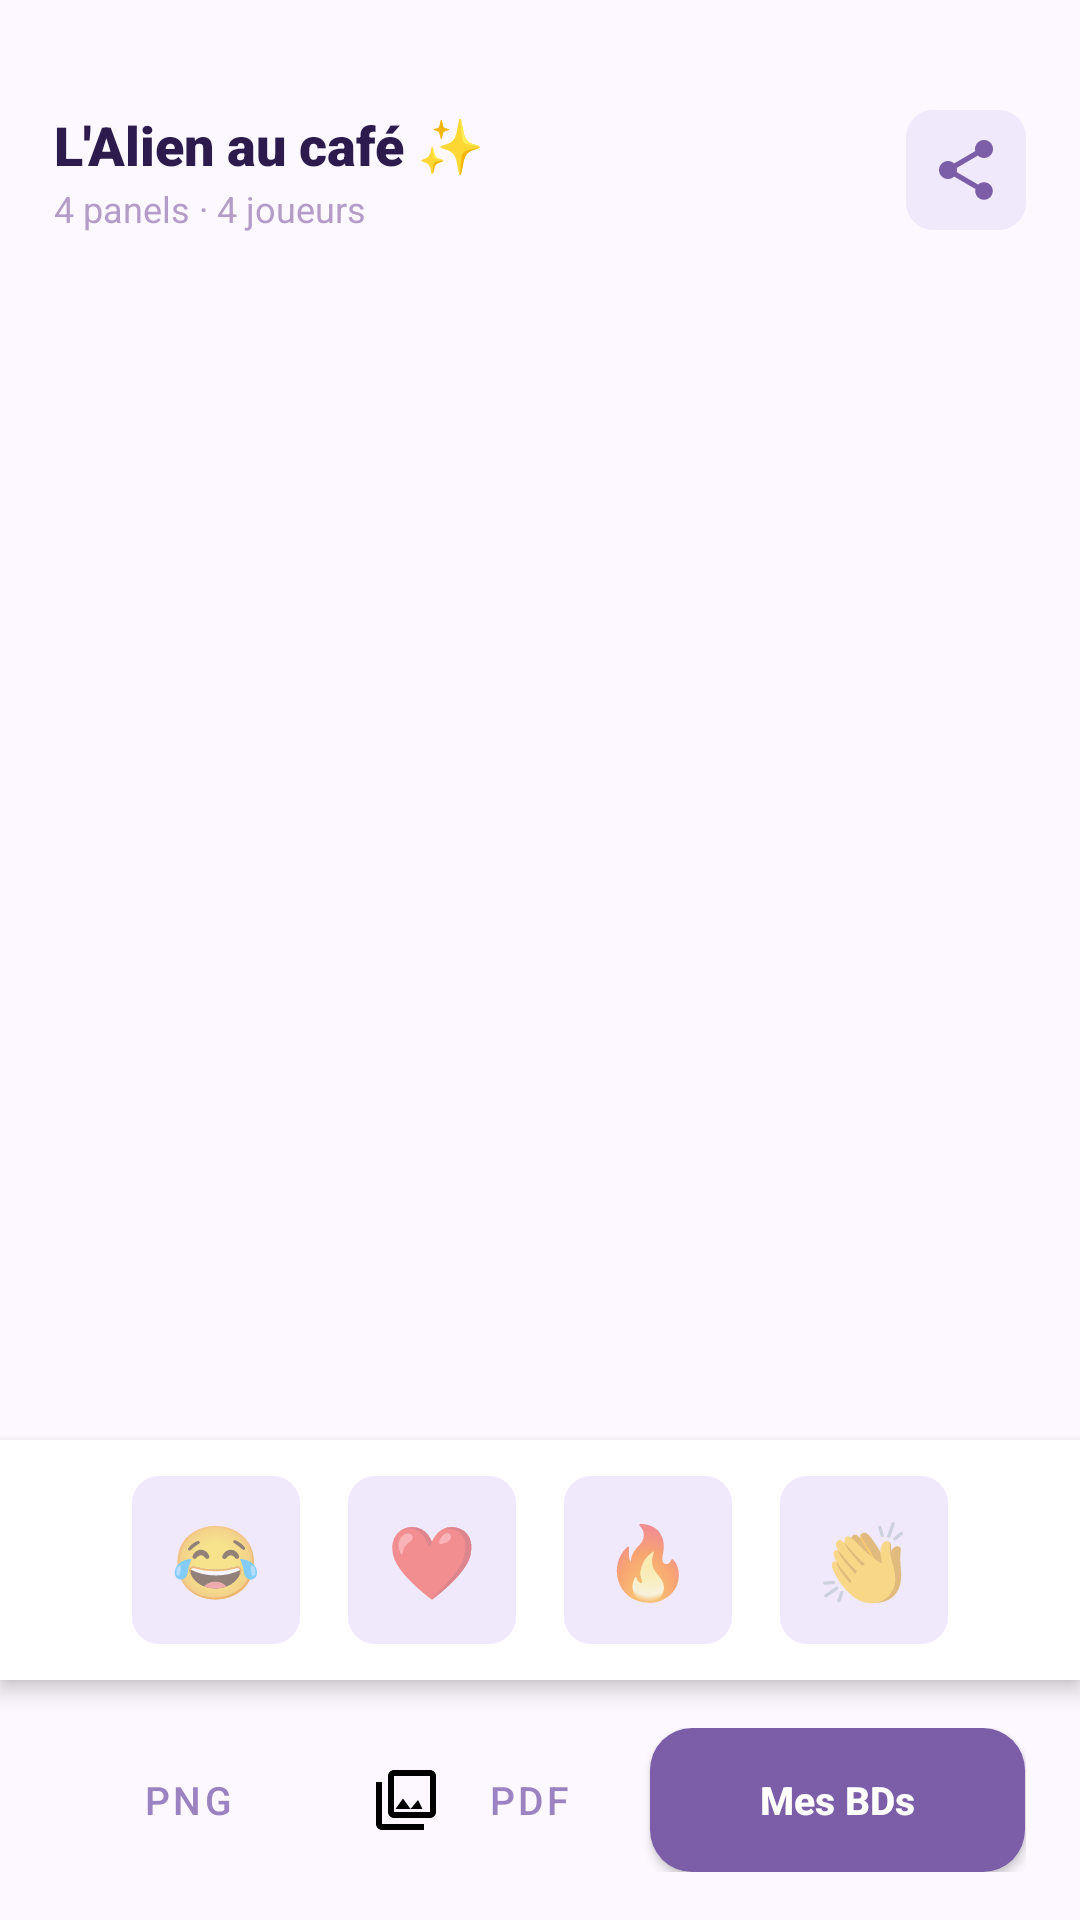

Locate icon controls on the screen. Image size 1080×1920, boxes as [x1,y1,x2,y2].
Partager: [906,110,1026,230]
